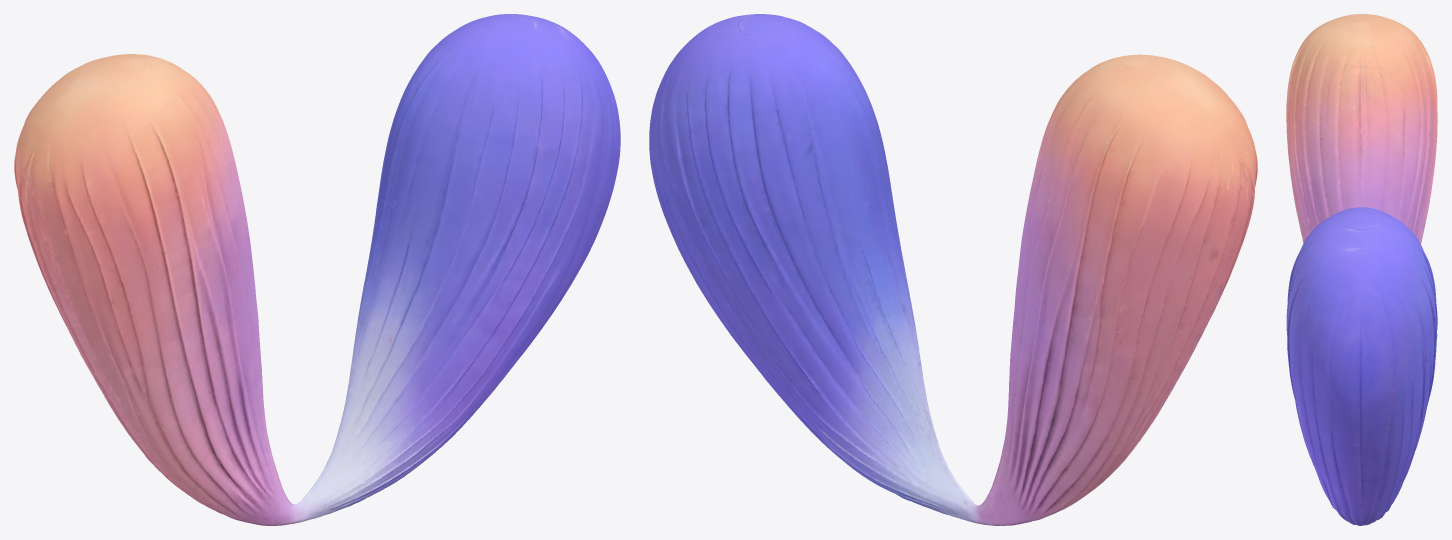
Rendered from lumyo-l.glb.
3 renders of one model, left to right at view 1: azimuth 30°, elevation 25°; view 2: azimuth 150°, elevation 25°; view 3: azimuth 270°, elevation 25°, orthographic. The views are drawn at different scales.
Parts seen in each view (by area): view 1: model; view 2: model; view 3: model.
Boxes of the visible parts, box(x1,y1,x2,y2) form: model: box(14, 14, 620, 525); model: box(649, 14, 1257, 525); model: box(1286, 14, 1437, 525).
Size of the model in its own units: 1.9 by 1.54 by 0.5114.
Materials: 1 (1 with a texture image).
